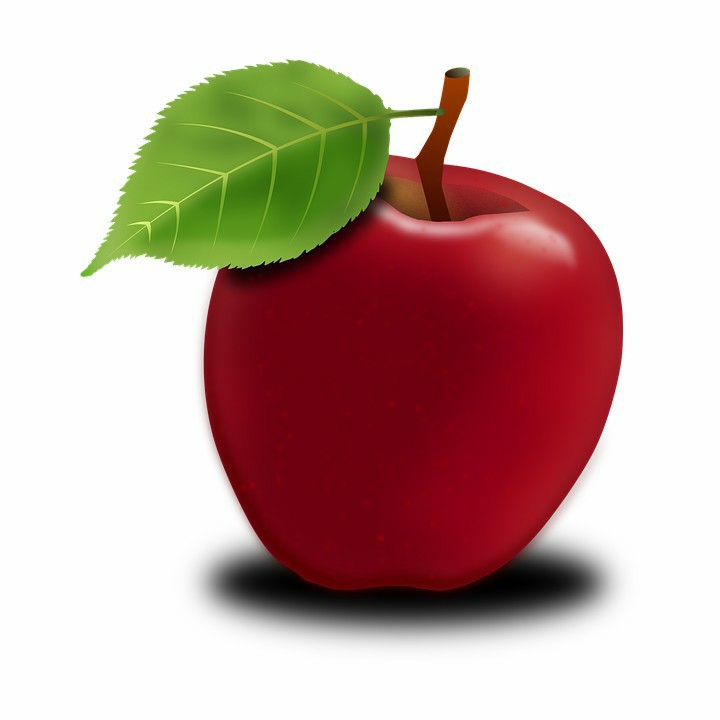fresh_apple: (205, 154, 630, 593)
